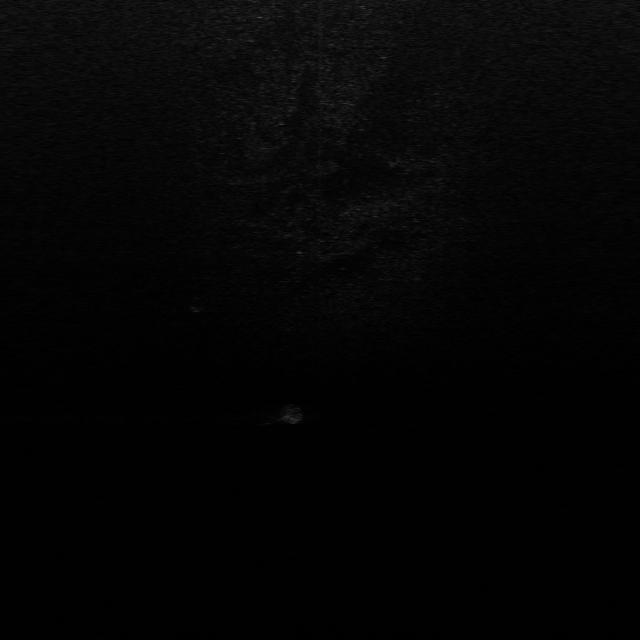ball: (274, 402, 307, 425)
circle cage: (186, 295, 210, 313)
